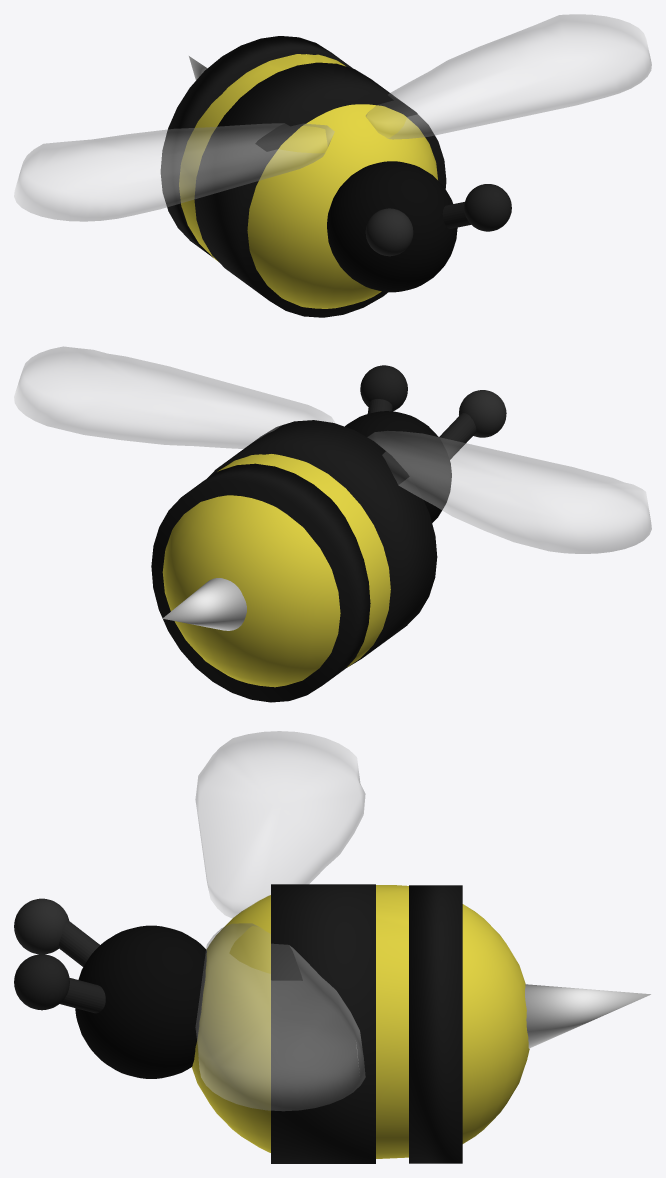
File: asset.glb
The picture shows the model from 3 angles, top to bottom: view 1: azimuth 30°, elevation 25°; view 2: azimuth 150°, elevation 25°; view 3: azimuth 270°, elevation 25°; orthographic projection. The views are drawn at different scales.
Parts seen in each view (by area): view 1: stripe1, wing.001, wing, Cylinder, Sphere.001, Cylinder.003, Sphere.003, Sphere.002, Cylinder.001; view 2: stripe1, wing.001, wing, Cylinder.003, Cylinder, Sphere.001, Cone, Sphere.003, Sphere.002, Cylinder.002; view 3: stripe1, Cylinder, wing, wing.001, Sphere.001, Cylinder.003, Cone, Sphere.002, Sphere.003, Cylinder.001, Cylinder.002.
Part boxes in pixels (x1=…): stripe1: x1=179, y1=54, x2=437, y2=308; wing.001: x1=14, y1=123, x2=334, y2=221; wing: x1=366, y1=14, x2=651, y2=139; Cylinder: x1=194, y1=62, x2=446, y2=317; Sphere.001: x1=327, y1=161, x2=457, y2=292; Cylinder.003: x1=160, y1=36, x2=353, y2=257; Sphere.003: x1=365, y1=208, x2=413, y2=256; Sphere.002: x1=464, y1=184, x2=511, y2=231; Cylinder.001: x1=442, y1=202, x2=471, y2=228; stripe1: x1=162, y1=454, x2=390, y2=687; wing.001: x1=367, y1=431, x2=651, y2=553; wing: x1=14, y1=346, x2=334, y2=448; Cylinder.003: x1=151, y1=463, x2=370, y2=702; Cylinder: x1=207, y1=420, x2=437, y2=667; Sphere.001: x1=345, y1=411, x2=451, y2=522; Cone: x1=163, y1=578, x2=246, y2=630; Sphere.003: x1=459, y1=390, x2=506, y2=437; Sphere.002: x1=360, y1=365, x2=407, y2=411; Cylinder.002: x1=439, y1=413, x2=476, y2=459; stripe1: x1=192, y1=885, x2=529, y2=1158; Cylinder: x1=271, y1=884, x2=375, y2=1163; wing: x1=195, y1=923, x2=365, y2=1110; wing.001: x1=195, y1=731, x2=365, y2=918; Sphere.001: x1=75, y1=925, x2=206, y2=1078; Cylinder.003: x1=409, y1=885, x2=462, y2=1163; Cone: x1=525, y1=984, x2=650, y2=1048; Sphere.002: x1=14, y1=954, x2=69, y2=1010; Sphere.003: x1=14, y1=898, x2=69, y2=954; Cylinder.001: x1=60, y1=978, x2=105, y2=1013; Cylinder.002: x1=58, y1=920, x2=99, y2=966.
Size of the model in its own units: 1.2 by 0.4004 by 0.9116.
